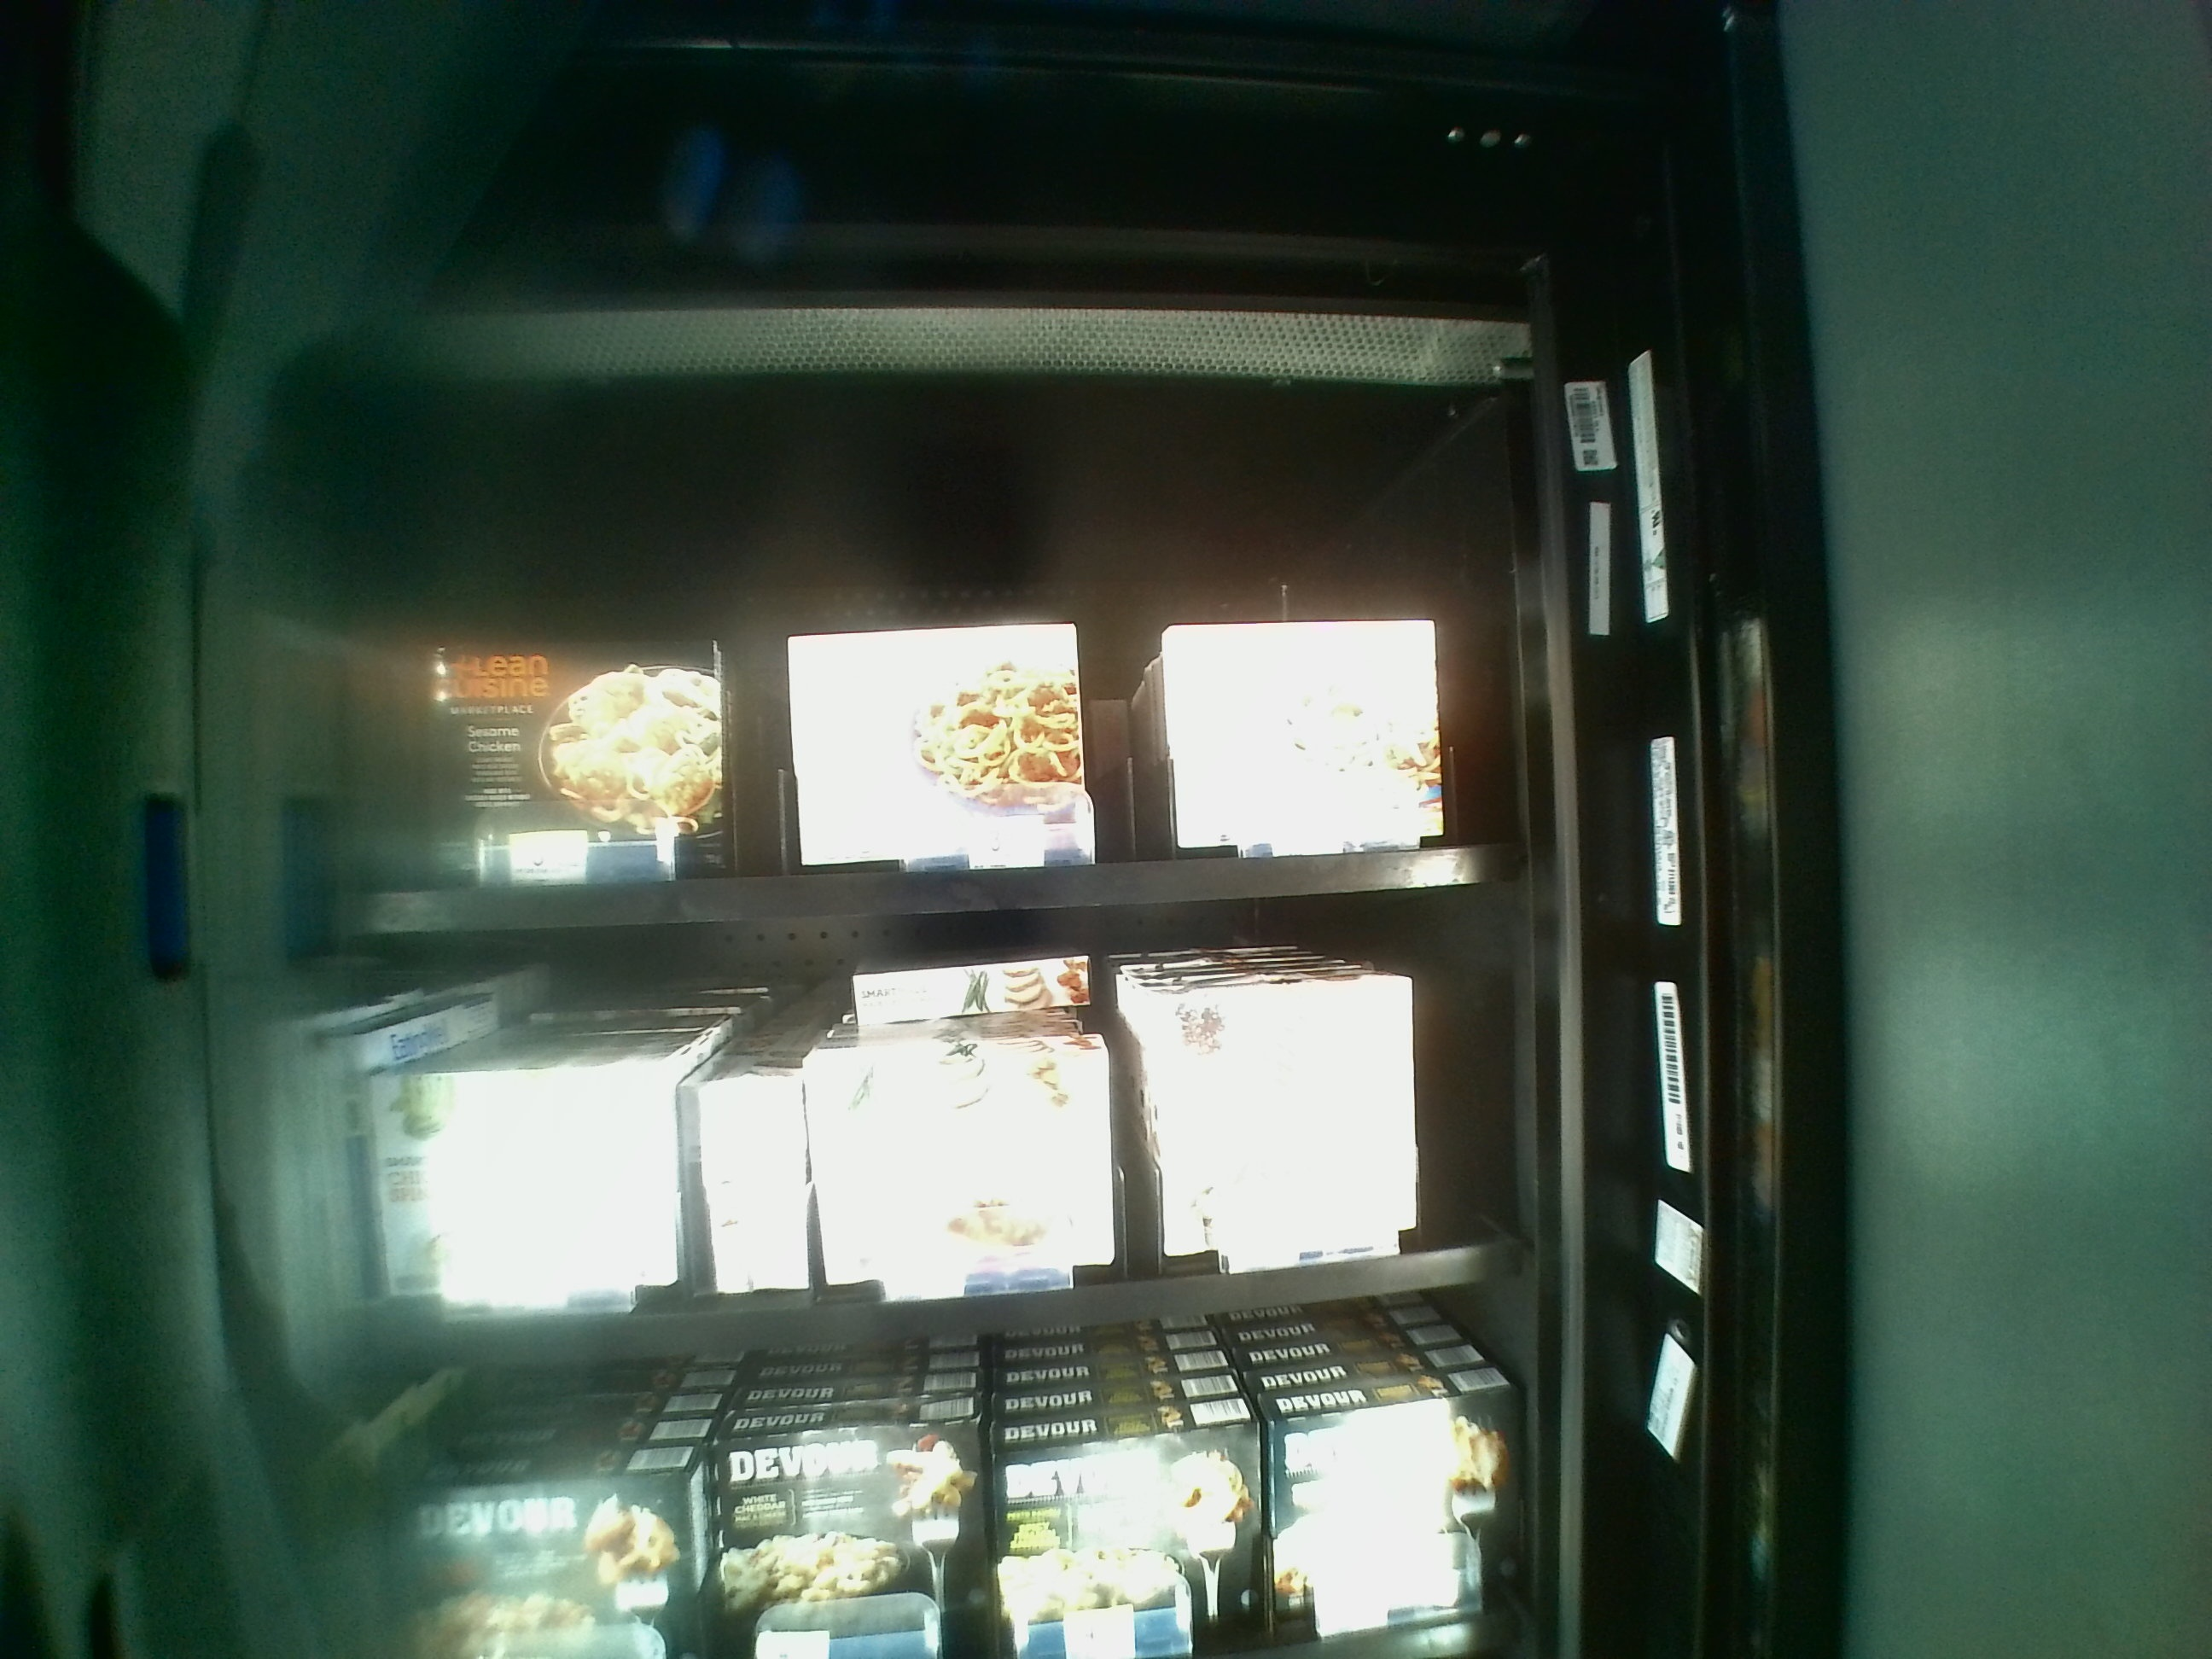shelf: (334, 518, 1521, 932), (336, 948, 1510, 1356)
